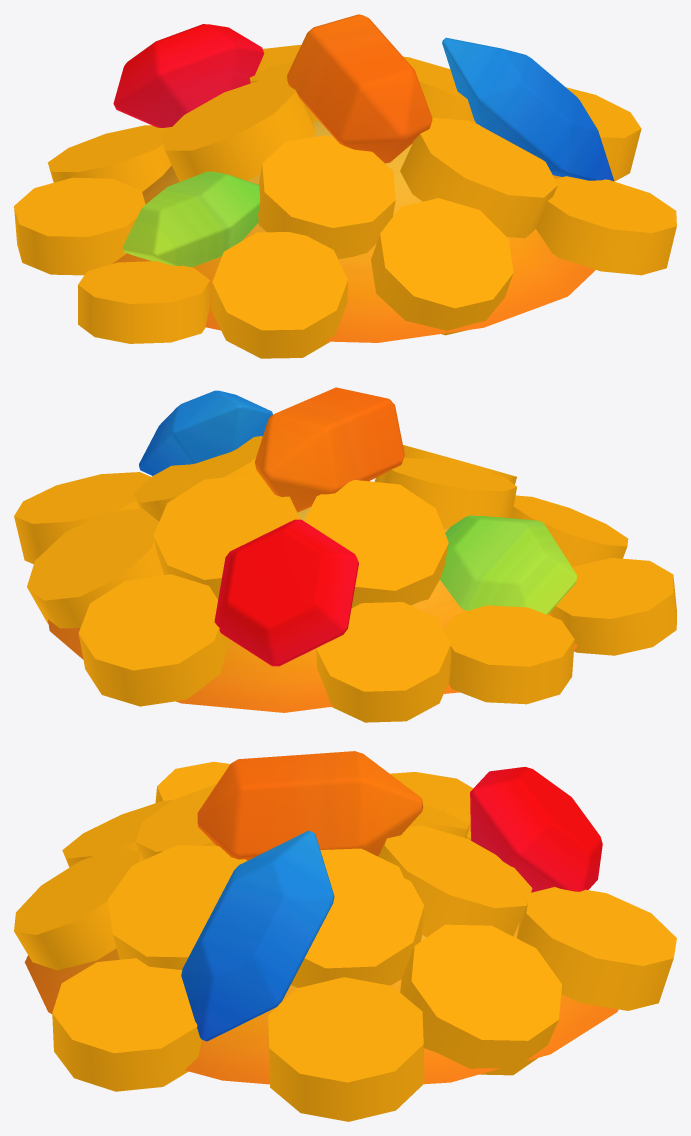
File: GoldPileSmall_001.glb
3 renders of one model, top to bottom at view 1: azimuth 30°, elevation 25°; view 2: azimuth 150°, elevation 25°; view 3: azimuth 270°, elevation 25°, orthographic. The views are drawn at different scales.
Visible parts, largest first — view 1: GoldPileSmall_001; view 2: GoldPileSmall_001; view 3: GoldPileSmall_001.
Part boxes in pixels (box(x1,y1,x2,y2)): GoldPileSmall_001: box(14, 14, 676, 358); GoldPileSmall_001: box(14, 387, 676, 722); GoldPileSmall_001: box(14, 751, 676, 1121).
Bounding box in the file's own units: 1.43 × 0.4588 × 1.28.
Materials: 2 (2 with a texture image).
